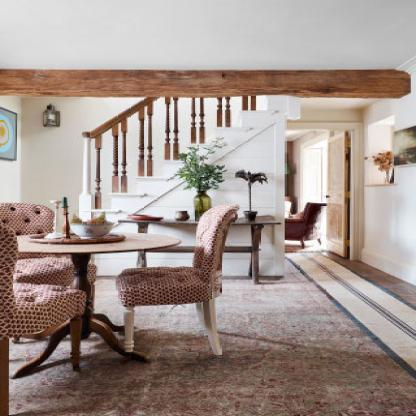chair: (0, 218, 99, 412), (120, 209, 237, 355), (0, 193, 74, 284), (286, 199, 330, 252)
light: (42, 94, 60, 133)
table: (5, 233, 184, 379)
